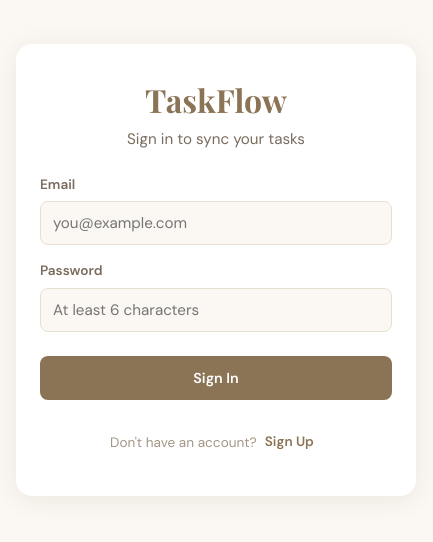
Test: Auth component › shows validation error for empty fields
Note: The Sign In button in the form (not the toggle)
Click the button "Sign In" at (216, 378), box [40,356,392,400]
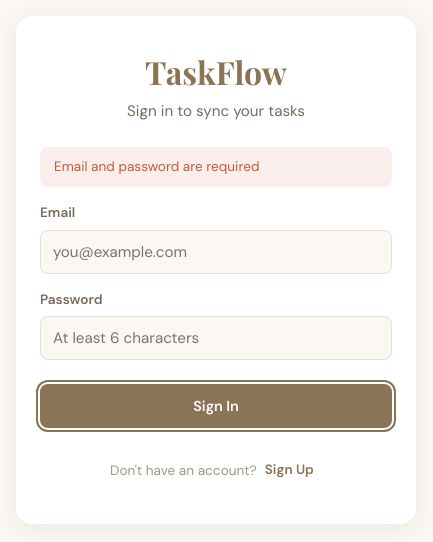
Check: the text "Email and password are required" is shown, box [40,147,392,187]
